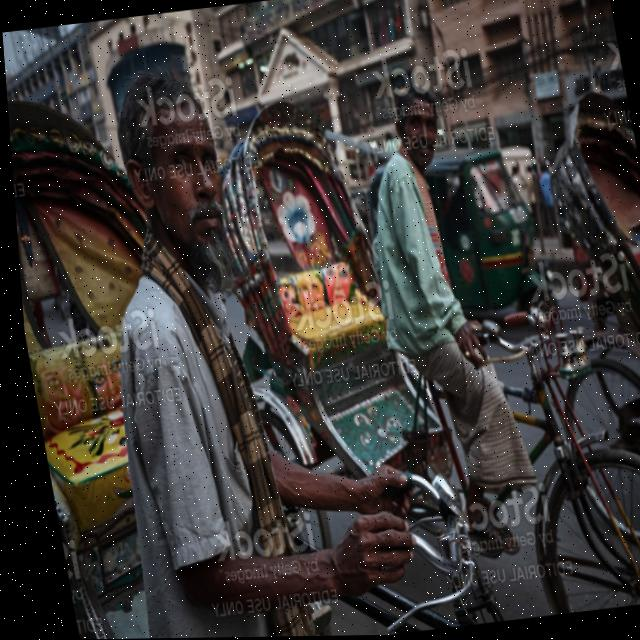rikshaw: (4, 58, 440, 640), (198, 79, 640, 638)
